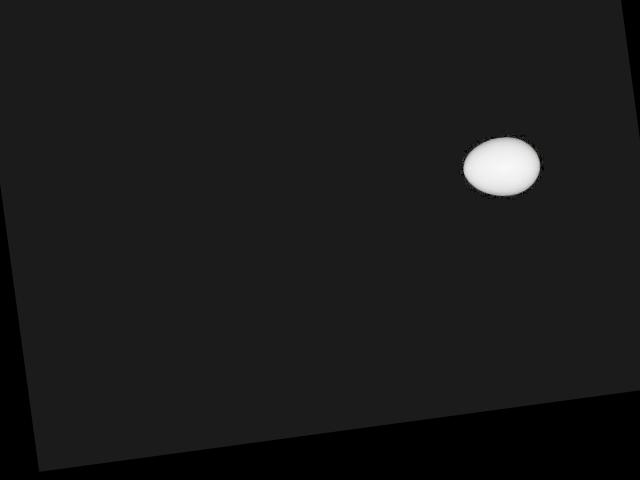egg: (460, 132, 543, 200)
